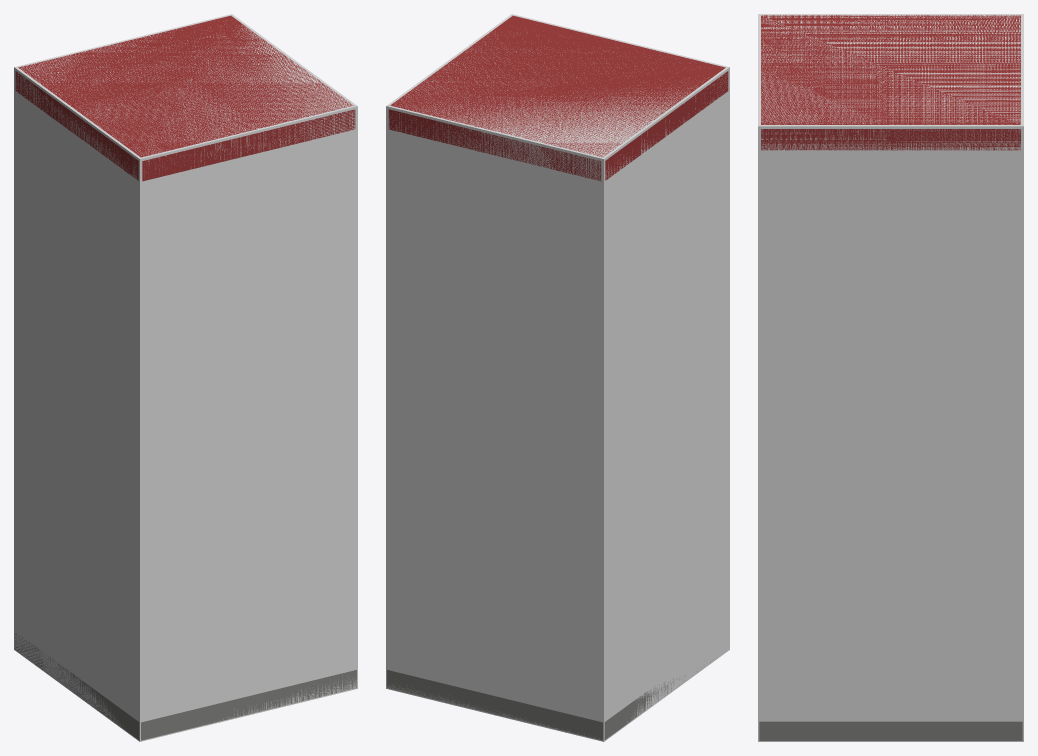
File: phone_booth.glb
3 renders of one model, left to right at view 1: azimuth 30°, elevation 25°; view 2: azimuth 150°, elevation 25°; view 3: azimuth 270°, elevation 25°, orthographic. The views are drawn at different scales.
Visible parts, largest first — view 1: phone_booth-convcol, booth_mesh; view 2: phone_booth-convcol, booth_mesh; view 3: phone_booth-convcol, booth_mesh.
Boxes of the visible parts, bbox=[...] form: phone_booth-convcol: bbox=[14, 14, 357, 741]; booth_mesh: bbox=[14, 15, 356, 740]; phone_booth-convcol: bbox=[386, 14, 729, 741]; booth_mesh: bbox=[387, 15, 728, 740]; phone_booth-convcol: bbox=[758, 14, 1023, 741]; booth_mesh: bbox=[759, 15, 1022, 740].
Size of the model in its own units: 0.9 by 2.3 by 0.9.
